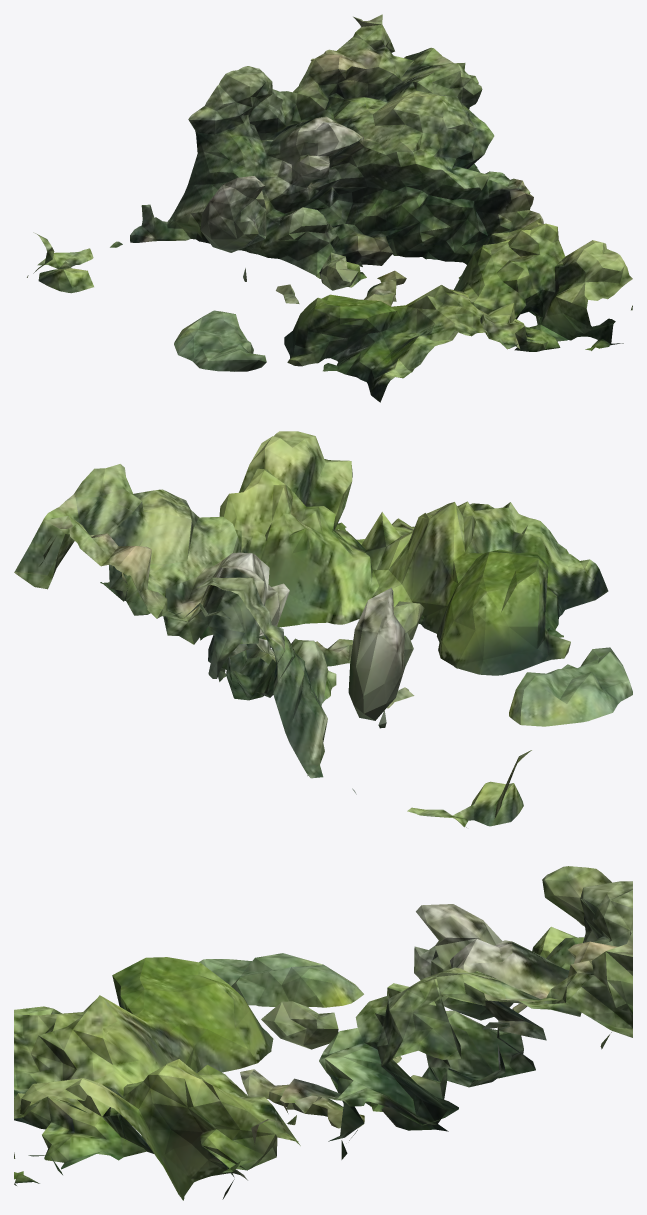
3 views of the same model, one above another, from view 1: azimuth 30°, elevation 25°; view 2: azimuth 150°, elevation 25°; view 3: azimuth 270°, elevation 25° (orthographic). The views are drawn at different scales.
Bounding box in the file's own units: 52.22 × 21.87 × 52.22.
Materials: 3 (3 with a texture image).
